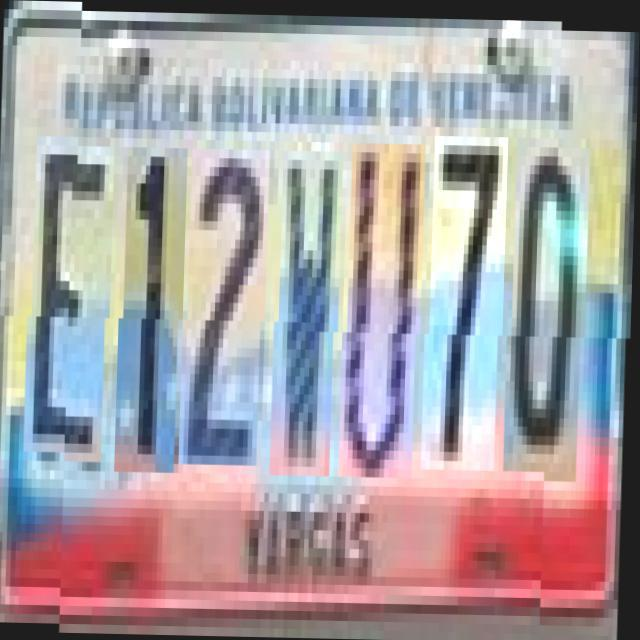1: (122, 146, 189, 472)
2: (186, 148, 271, 464)
7: (428, 134, 509, 469)
E: (30, 145, 116, 462)
O: (510, 135, 591, 470)
U: (346, 142, 426, 476)
W: (277, 149, 344, 475)
